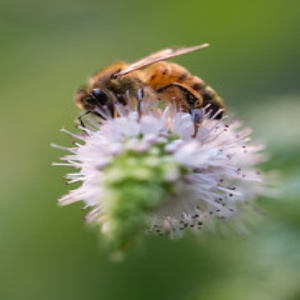bee: (73, 41, 226, 136)
